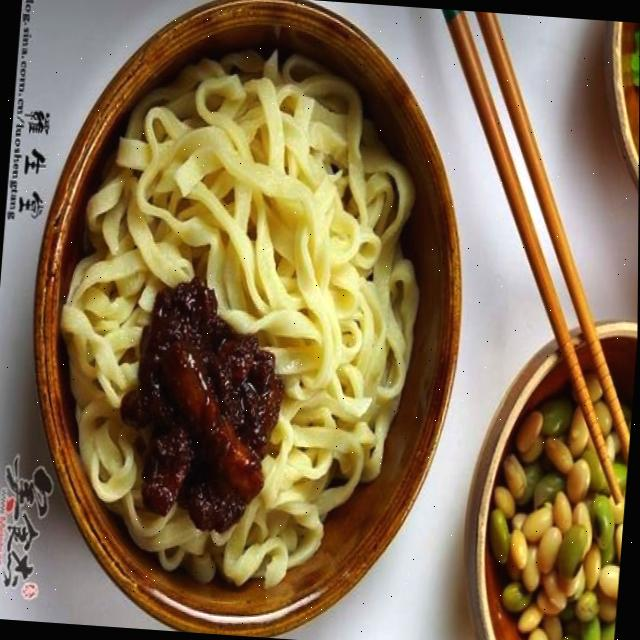面条主食: (15, 1, 512, 640)
